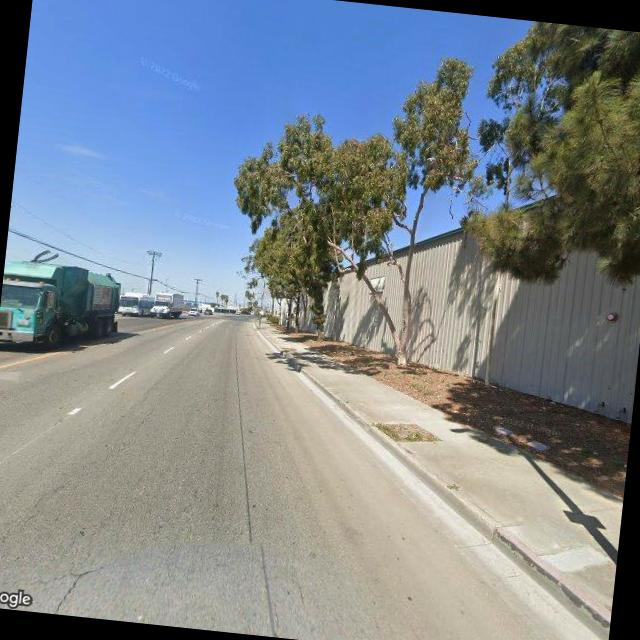pothole: (0, 462, 72, 585)
